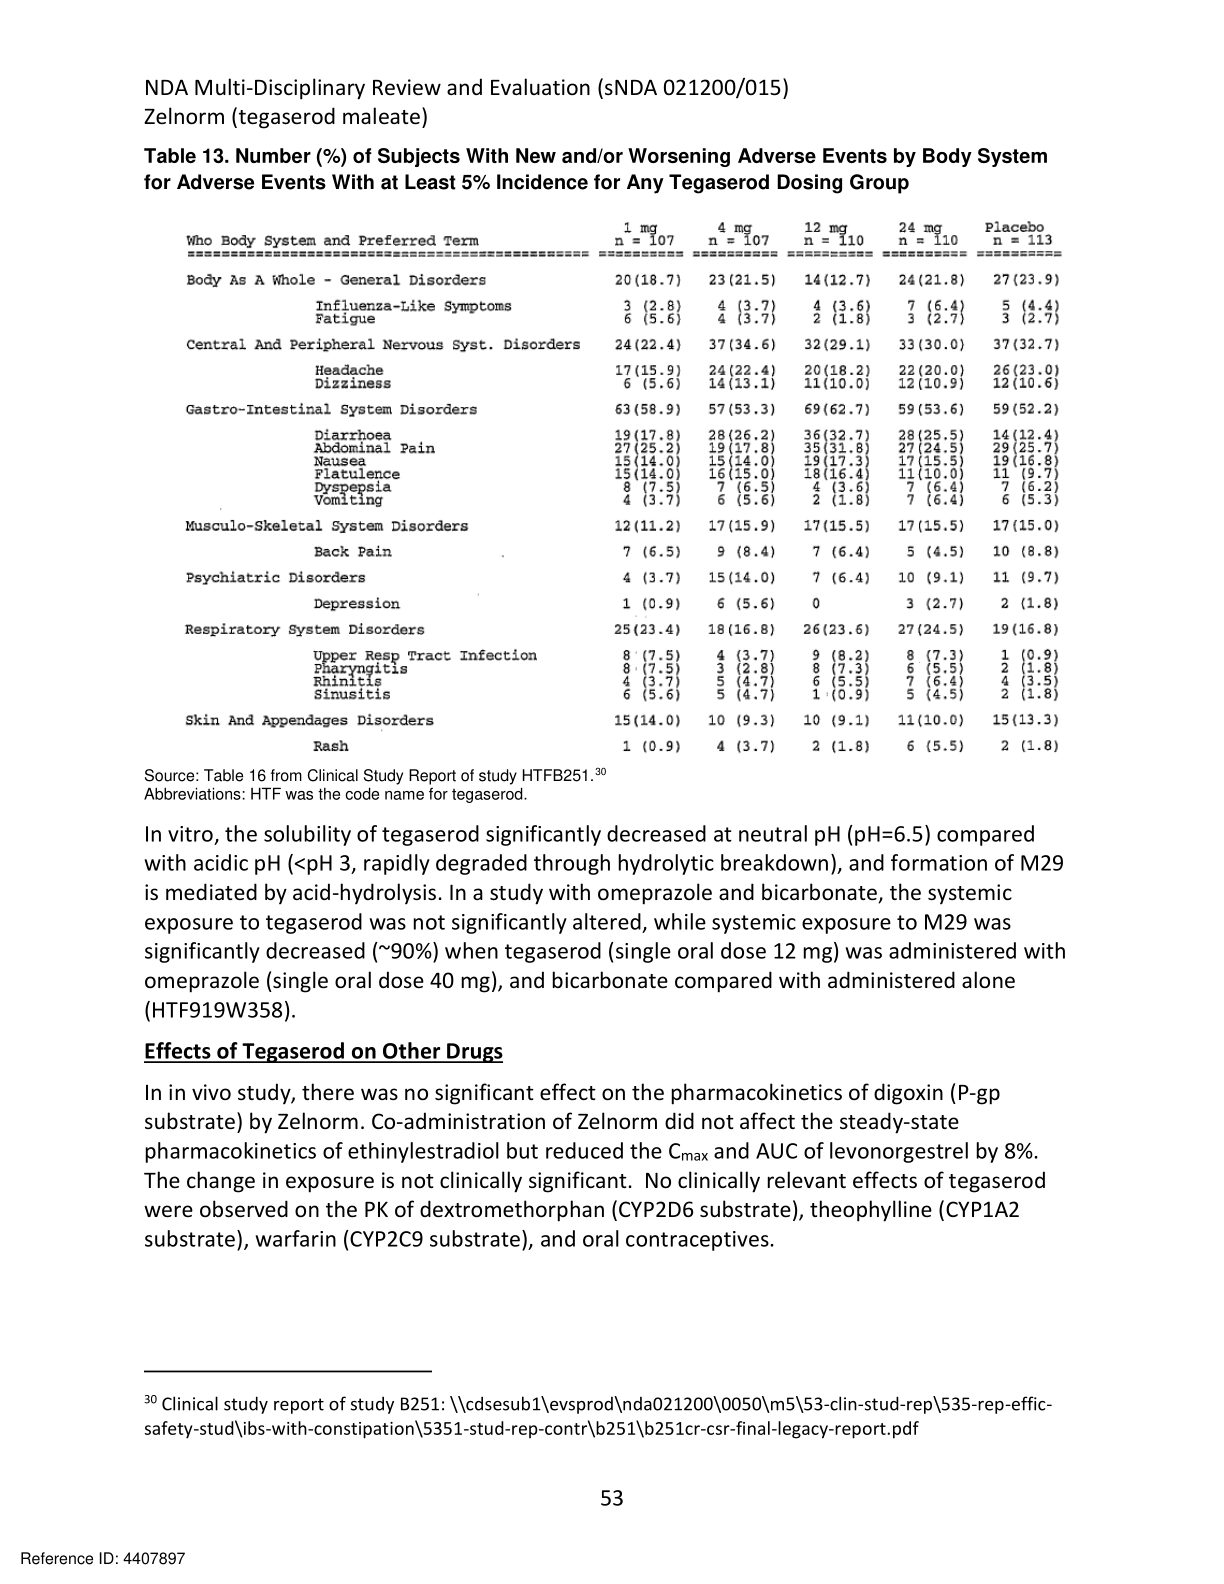partial_lined_merged_cells: (180, 219, 1062, 757)
